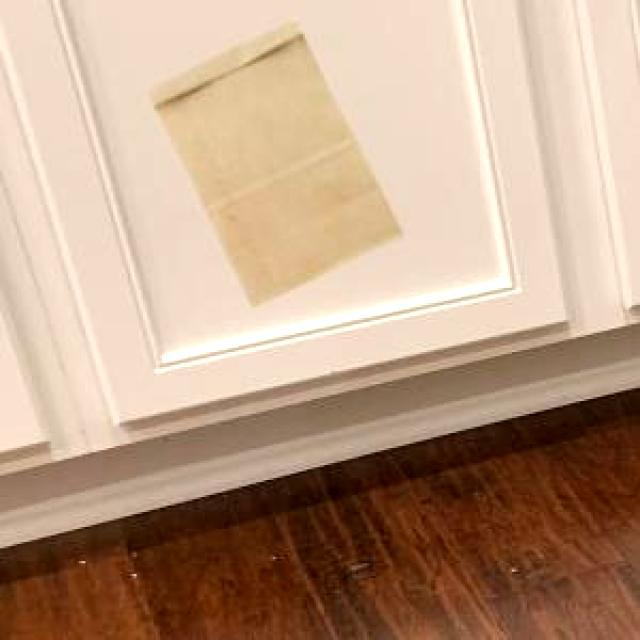Paper_Bag: (144, 18, 400, 304)
